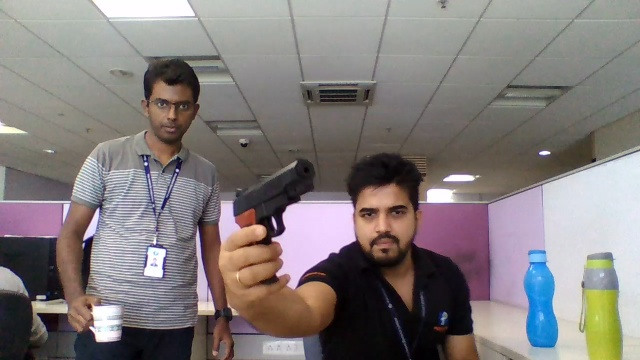gun: (231, 157, 317, 245)
